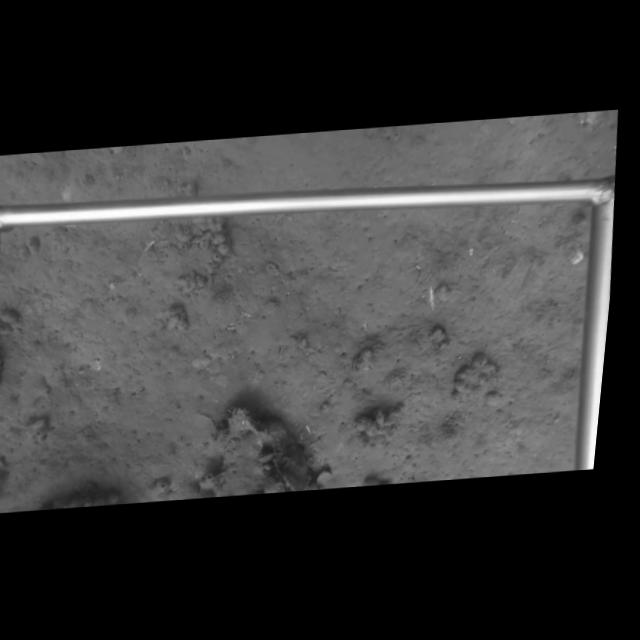Oyster-Indeterminate: (198, 404, 323, 497)
